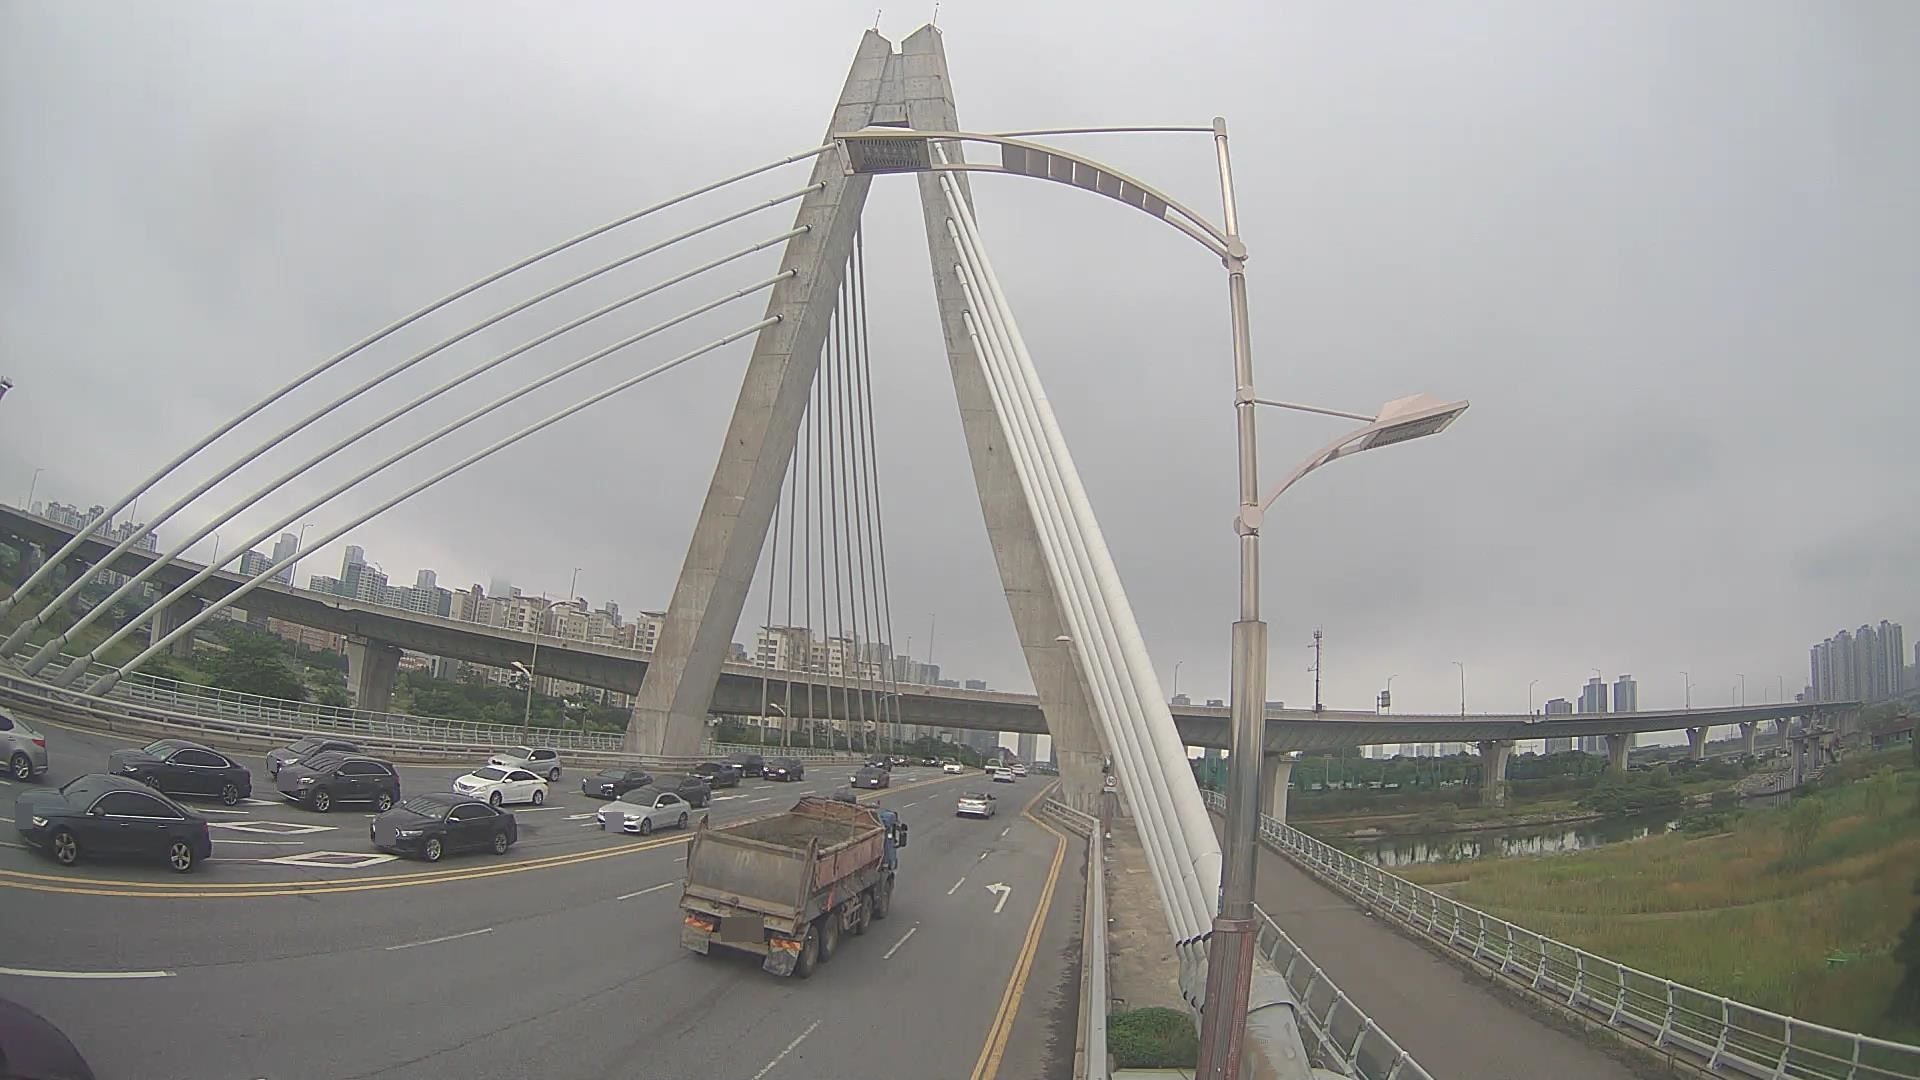정상차량: (678, 793, 907, 981)
